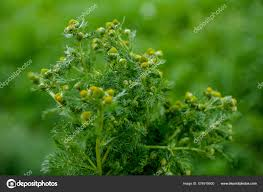pineple: (95, 107, 195, 177)
